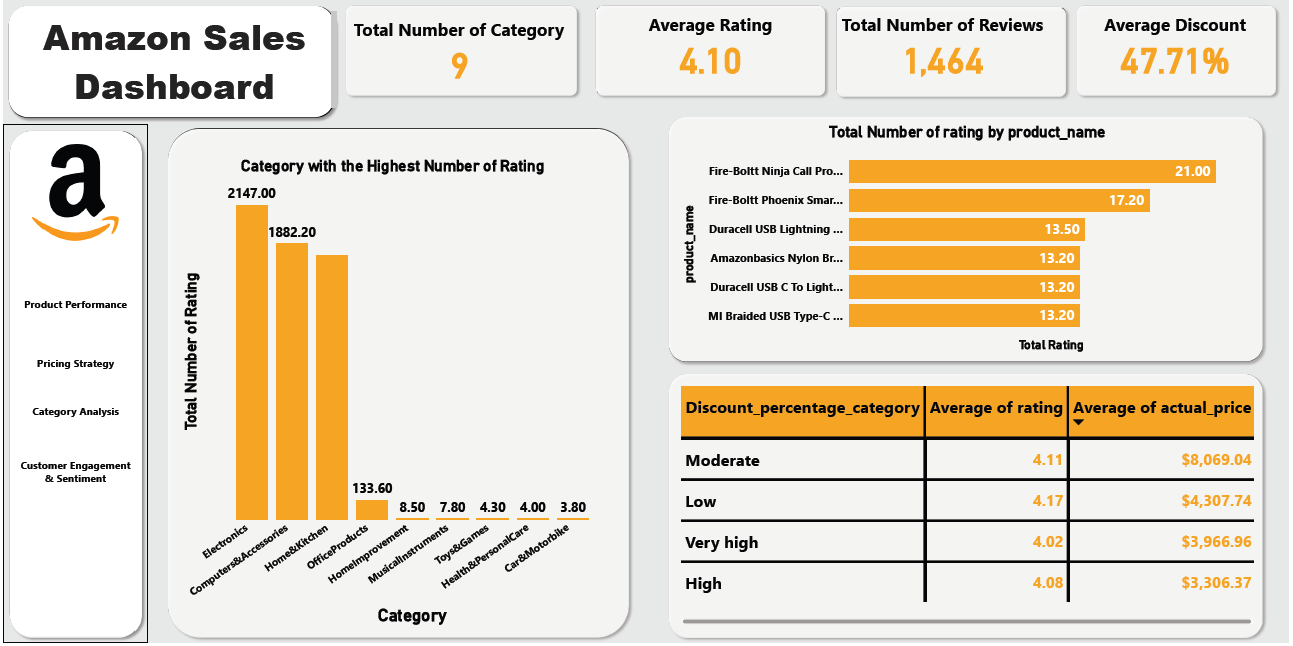

Layout of this report page (visuals, bound fields, positions):
{"tool":"powerbi","page":{"name":" Product Performance","canvas":[2000,1000],"ordinal":0},"visuals":[{"type":"shape","box":[0,193.3,224.9,806.7],"z":0},{"type":"shape","box":[524.2,0,377.3,156.1],"z":1000},{"type":"shape","box":[914.5,0,373.6,156.1],"z":2000},{"type":"shape","box":[1661.7,0,327.1,156.1],"z":3000},{"type":"shape","box":[246.7,191.1,735.6,808.9],"z":4000},{"type":"shape","box":[1026.7,173.3,942.2,397.8],"z":5000},{"type":"shape","box":[1026.7,571.1,942.2,428.9],"z":6000},{"type":"shape","box":[1288.1,1.9,373.6,156.1],"z":7000},{"type":"cardVisual","fields":{"Data":["Amazon Sales.Average Discount"]},"box":[1678.4,0,291.8,143.1],"z":8000},{"type":"cardVisual","fields":{"Data":["Amazon Sales.Total Number of Category"]},"box":[516.7,0,384.8,156.1],"z":9000},{"type":"cardVisual","fields":{"Data":["Amazon Sales.Average Rating"]},"box":[943.1,0,315.7,143.1],"z":10000},{"type":"cardVisual","fields":{"Data":["Amazon Sales.Total Number of Reviews"]},"box":[1275.1,0,373.6,143.1],"z":11000},{"type":"shape","box":[0,0,524.2,191.4],"z":12000},{"type":"textbox","box":[16.7,13,507.4,159.9],"z":13000},{"type":"image","box":[37.2,219.3,150.6,161.7],"z":14000},{"type":"columnChart","title":"Category with the Highest Number of Rating","fields":{"Category":["Amazon Sales.category.1"],"Y":["Sum(Amazon Sales.rating)"]},"box":[271.1,244.4,671.1,731.1],"z":15000},{"type":"barChart","title":"Total Number of rating by product_name","fields":{"Category":["Amazon Sales.product_name"],"Y":["Sum(Amazon Sales.rating)"]},"box":[1051.1,191.1,900,360],"z":16000},{"type":"pivotTable","fields":{"Rows":["Amazon Sales.Discount_percentage_category"],"Values":["Avg(Amazon Sales.rating)","Avg(Amazon Sales.actual_price)"]},"box":[1051.1,595.6,900,380],"z":17000},{"type":"bookmarkNavigator","box":[16.7,433.3,187,50],"z":17001},{"type":"actionButton","box":[18.5,442.6,187,57.4],"z":17002},{"type":"actionButton","box":[18.5,529.6,187,66.7],"z":17003},{"type":"actionButton","box":[18.5,609.3,187,57.4],"z":17004},{"type":"actionButton","box":[18.5,700,187,64.8],"z":17005}]}

Visuals, with their boxes in screenshot pixels (x1, y1, x2, y2), scaled from the page's 2000x1000 canvas onto the 1293x646 screenshot:
shape: (0,125,145,645)
shape: (339,0,583,101)
shape: (591,0,833,101)
shape: (1074,0,1286,101)
shape: (159,123,635,645)
shape: (664,112,1273,369)
shape: (664,369,1273,645)
shape: (833,1,1074,102)
cardVisual - Amazon Sales.Average Discount: (1085,0,1274,92)
cardVisual - Amazon Sales.Total Number of Category: (334,0,583,101)
cardVisual - Amazon Sales.Average Rating: (610,0,814,92)
cardVisual - Amazon Sales.Total Number of Reviews: (824,0,1066,92)
shape: (0,0,339,124)
textbox: (11,8,339,112)
image: (24,142,121,246)
"Category with the Highest Number of Rating" columnChart: (175,158,609,630)
"Total Number of rating by product_name" barChart: (680,123,1261,356)
pivotTable - Amazon Sales.Discount_percentage_category x Avg(Amazon Sales.rating): (680,385,1261,630)
bookmarkNavigator: (11,280,132,312)
actionButton: (12,286,133,323)
actionButton: (12,342,133,385)
actionButton: (12,394,133,431)
actionButton: (12,452,133,494)
